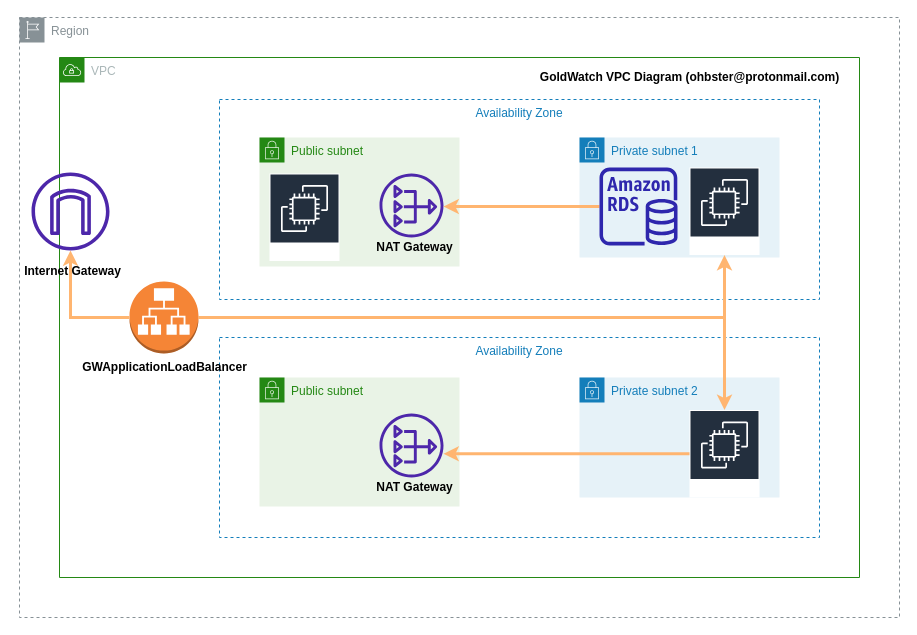
The diagram is 917 pixels wide and 635 high, and some of its shapes have lost their labels. The centre of each missing label's shape, as x and y in pixels:
BastionHost: pixel 304 216
WebServerInstance1: pixel 724 210
WebServerInstance2: pixel 724 453
